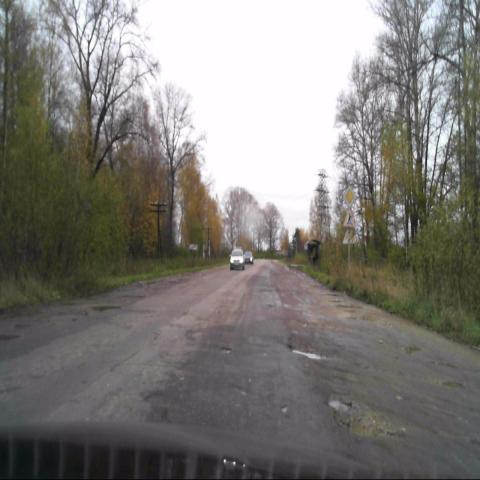1_22: (342, 207, 356, 228)
